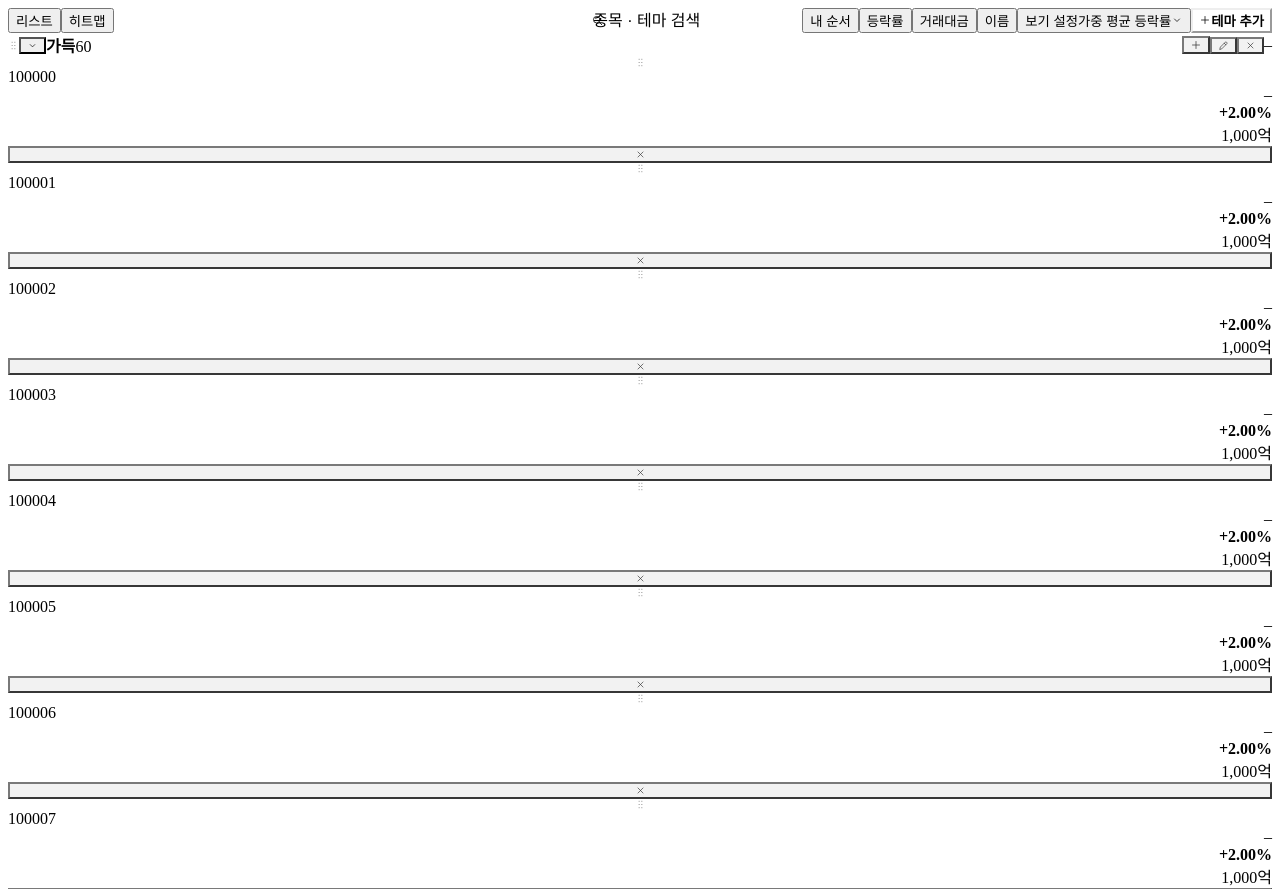
Test: 이름 검증·60종목 상한·빈 상태 관심종목 가져오기(원본 불변)·서버 거부 롤백·충돌 리베이스
The width and height of the screenshot is (1280, 889).
Later steps or results of the test are not shown.
Click the button "테마 추가".
click(1232, 20)  # box [1191, 8, 1272, 33]
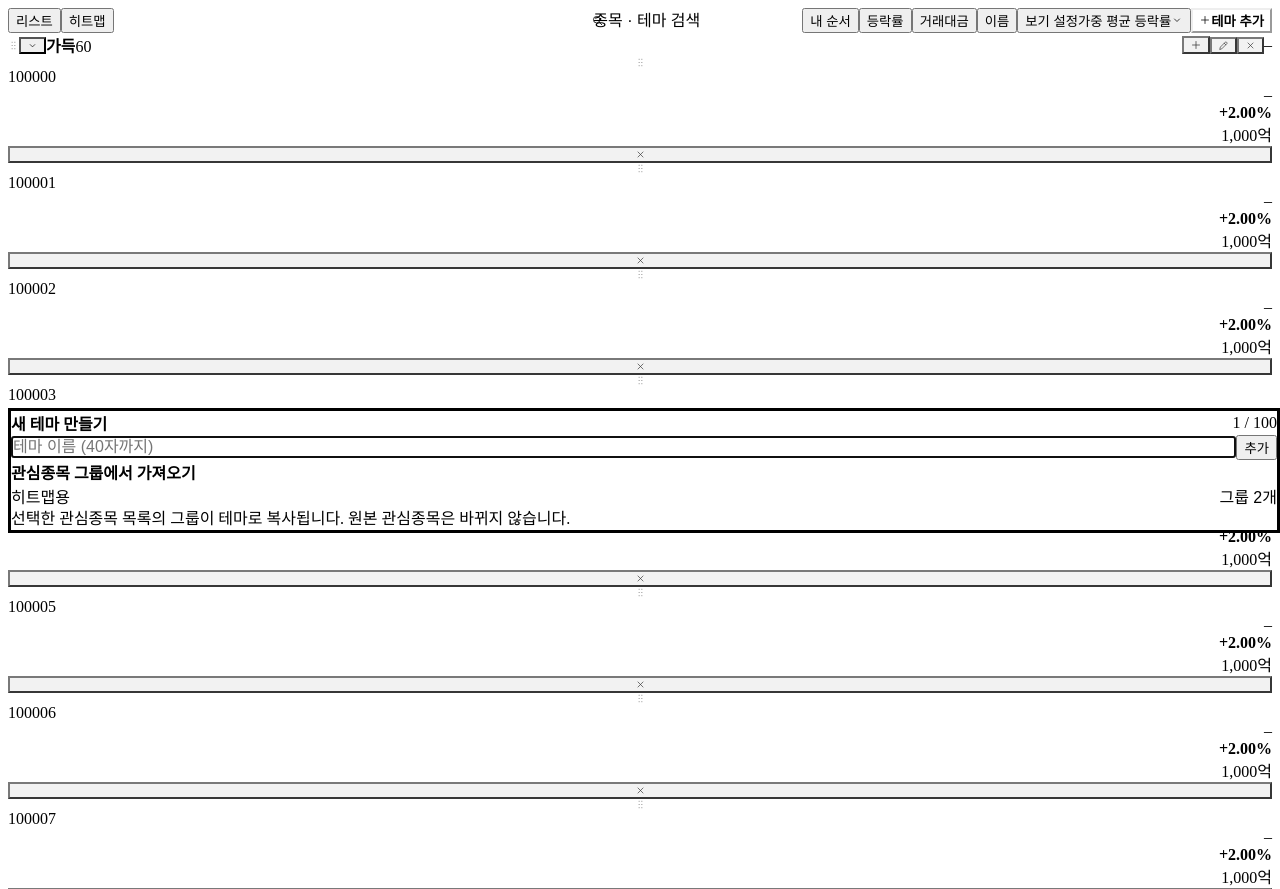
Type "가득" into the field named "새 테마 이름".
click(624, 447); type("가득")  # box [11, 436, 1236, 458]
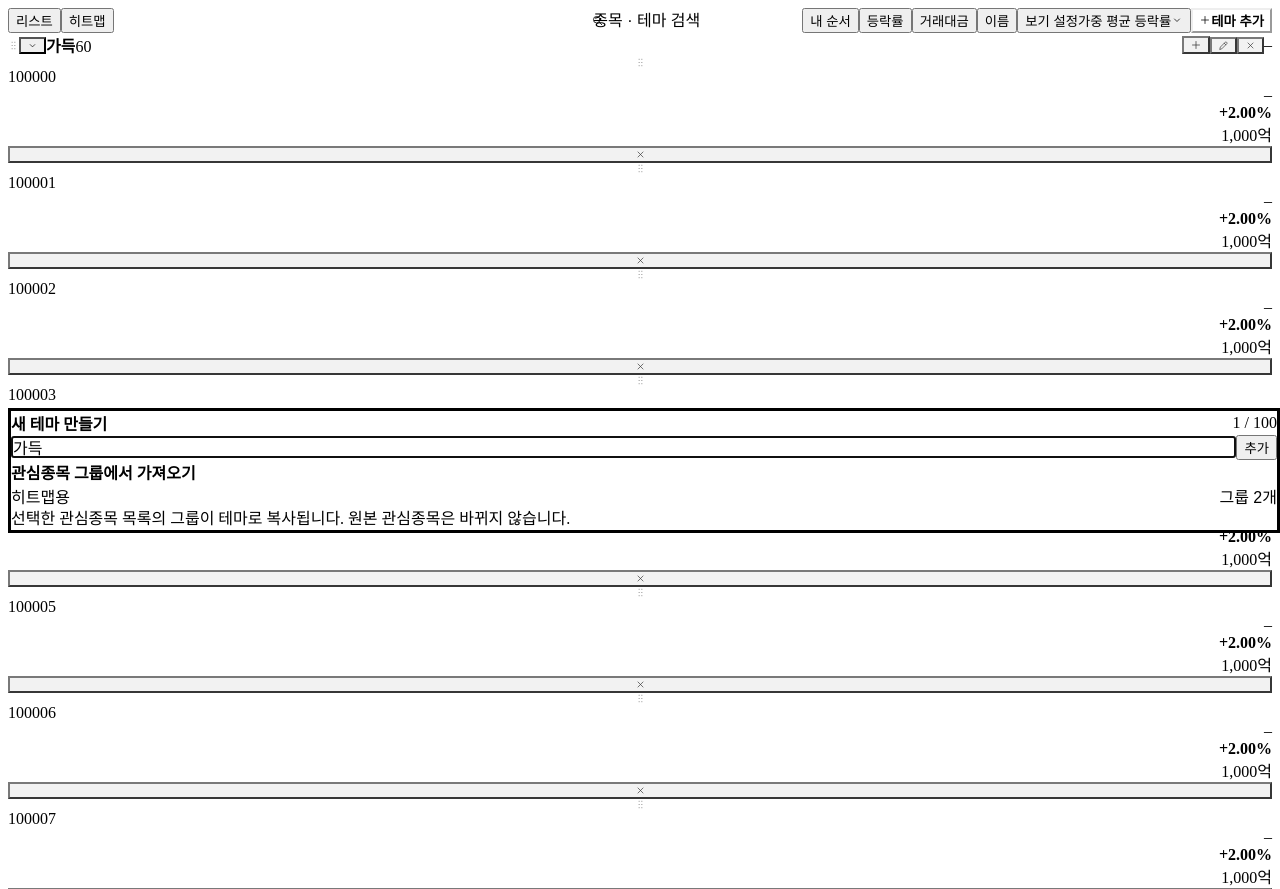
Submit the form named "새 테마 이름", box [11, 435, 1277, 460]
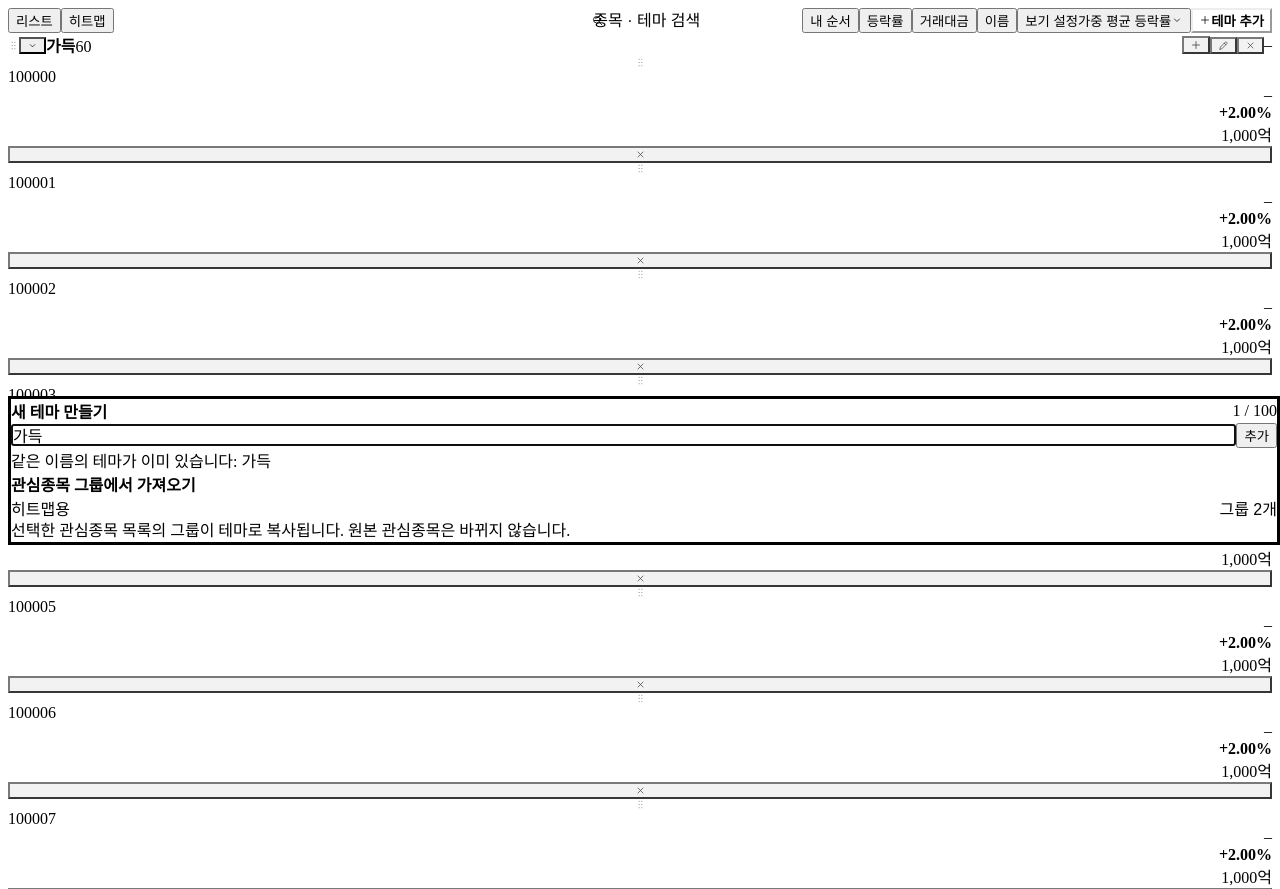
Expected: the message "같은 이름의 테마가 이미 있습니다: 가득" is shown, [11, 453, 271, 470]
